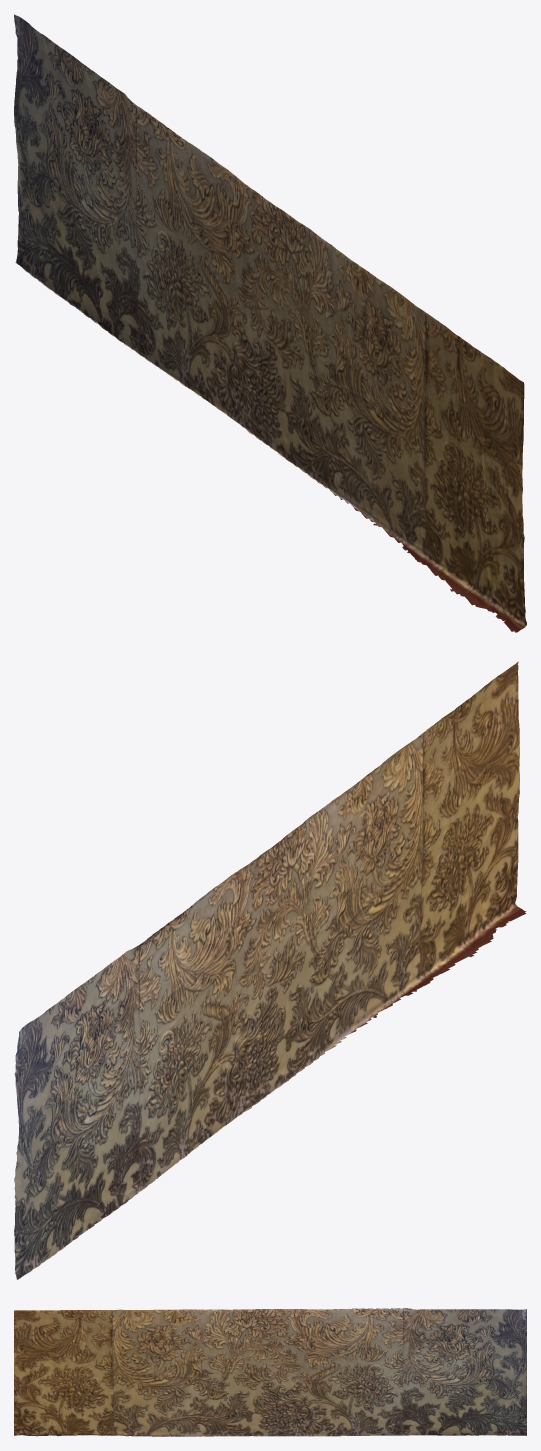
The model's file is small-section-old-pattern-wallpaper.glb.
The picture shows the model from 3 angles, top to bottom: view 1: azimuth 30°, elevation 25°; view 2: azimuth 150°, elevation 25°; view 3: azimuth 270°, elevation 25°; orthographic projection. The views are drawn at different scales.
Visible parts, largest first — view 1: Object_2; view 2: Object_2; view 3: Object_2.
Boxes of the visible parts, x1=… form: Object_2: x1=14, y1=14, x2=526, y2=632; Object_2: x1=14, y1=661, x2=526, y2=1279; Object_2: x1=14, y1=1308, x2=526, y2=1436.
Bounding box in the file's own units: 0.0322 × 0.4347 × 1.6.
1 material, 1 textured.
